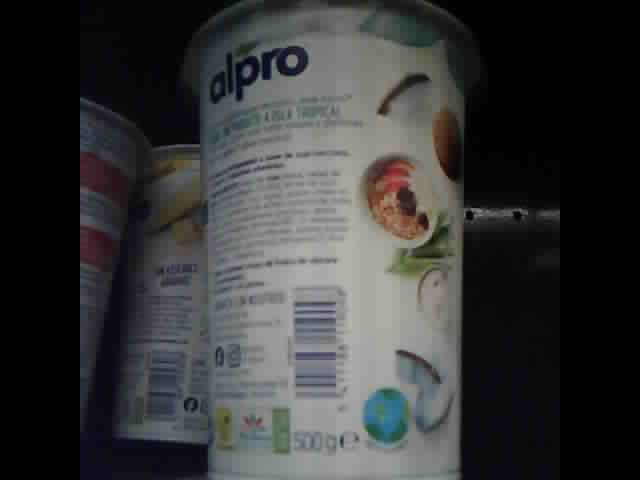alpro: (182, 1, 471, 480), (112, 139, 210, 446), (81, 95, 148, 436)
